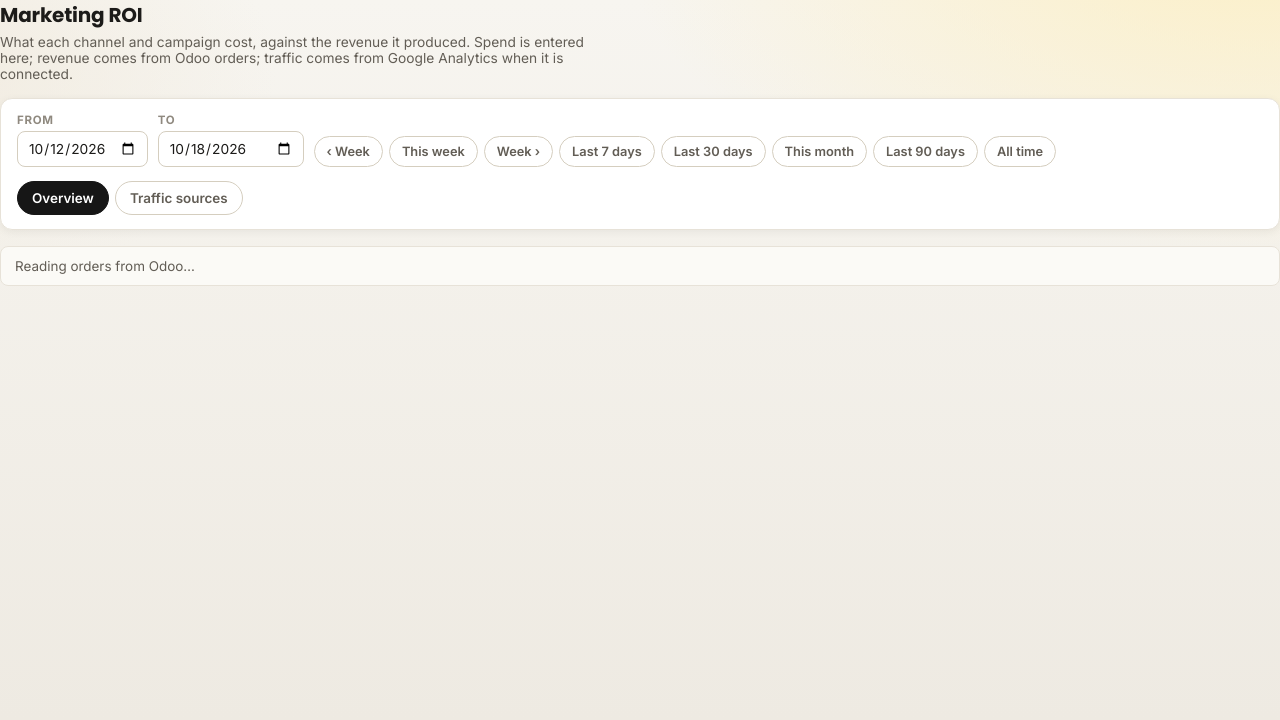
says Google Analytics is not answering rather than printing zeroes as fact
This screenshot has width=1280, height=720.
Click the button "Traffic sources": [179, 198] box [115,181,243,215]
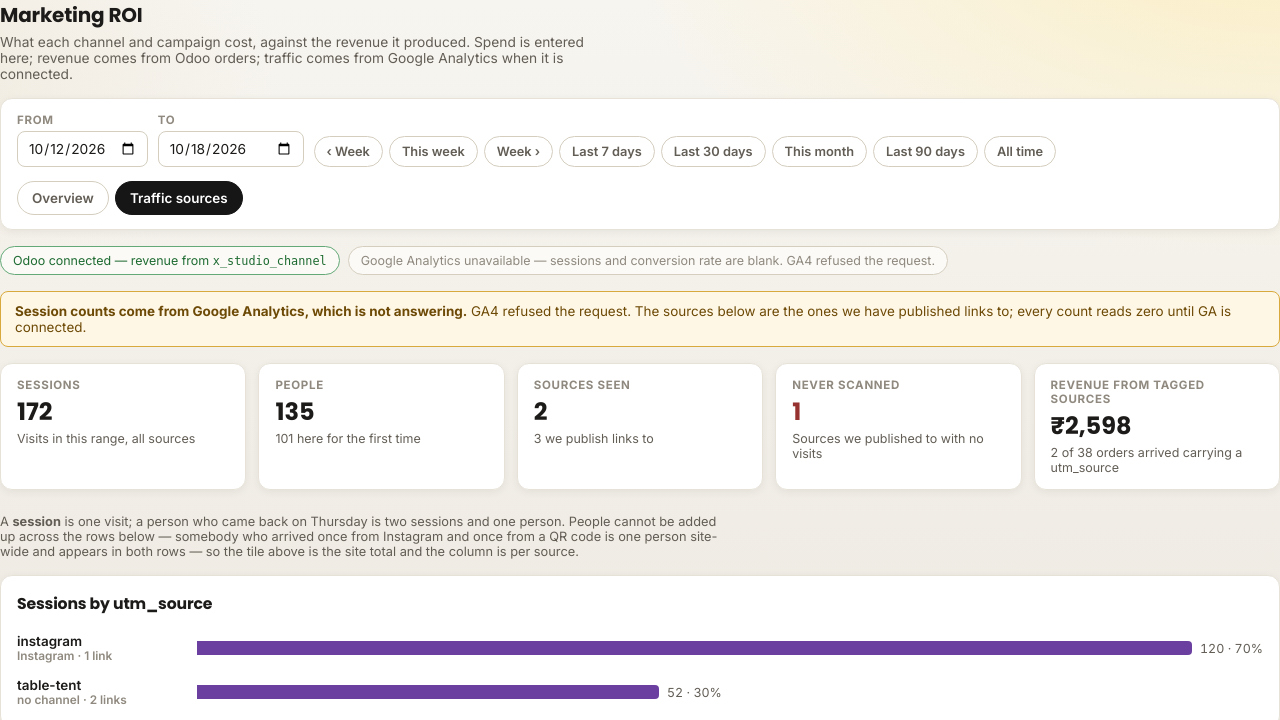
Expected: the text "Session counts come from Google Analytics" is shown, [15,303,467,319]
Expected: the text "GA4 refused the request." is shown 2 times, [348,246,948,275]; [0,291,1279,347]
